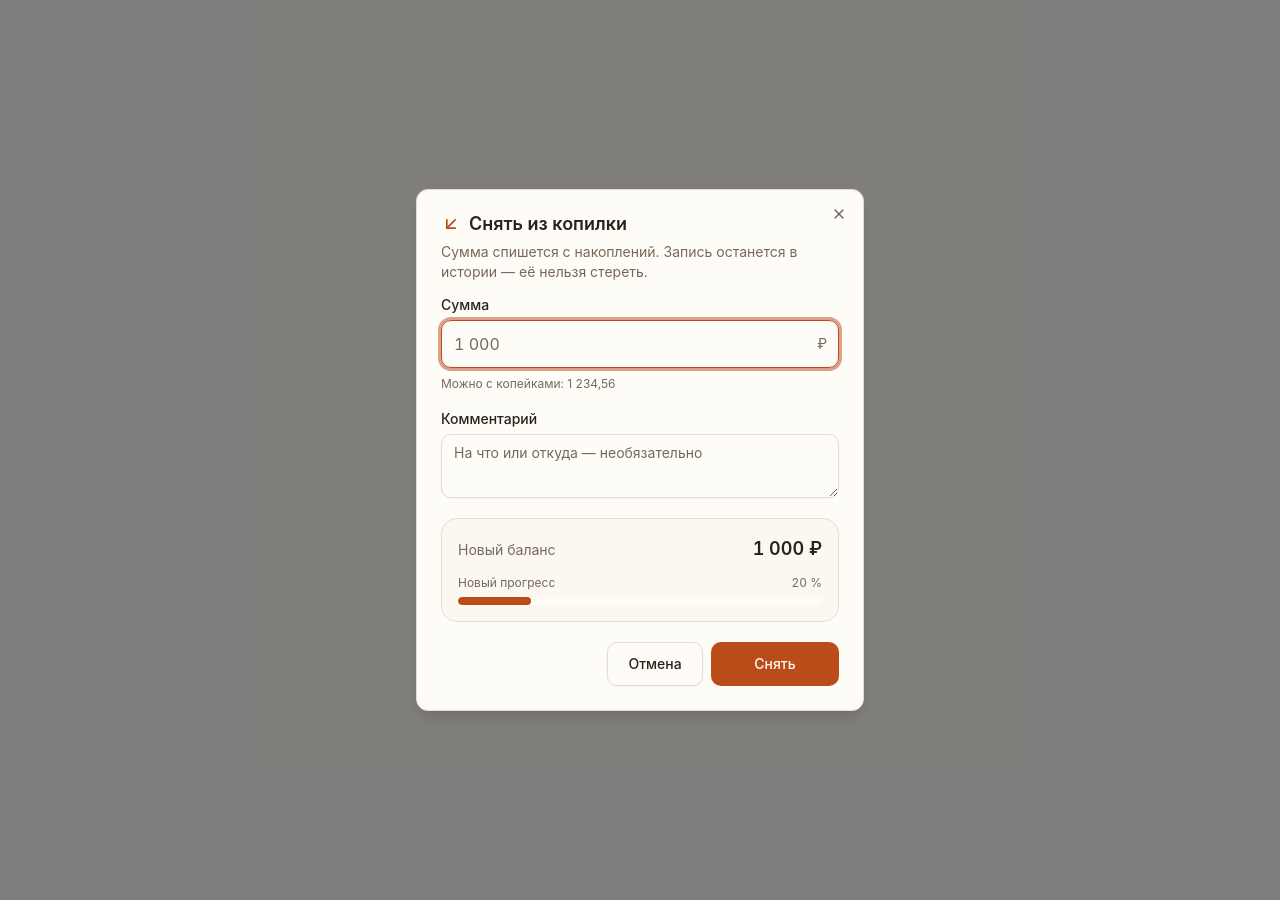
Scenario: contribute dialog preview › subtracts on a withdrawal and warns when the balance would go negative
This screenshot has width=1280, height=900.
In the field labelled "Сумма": {"x": 640, "y": 344} 441,320 -> 839,368, type "250"
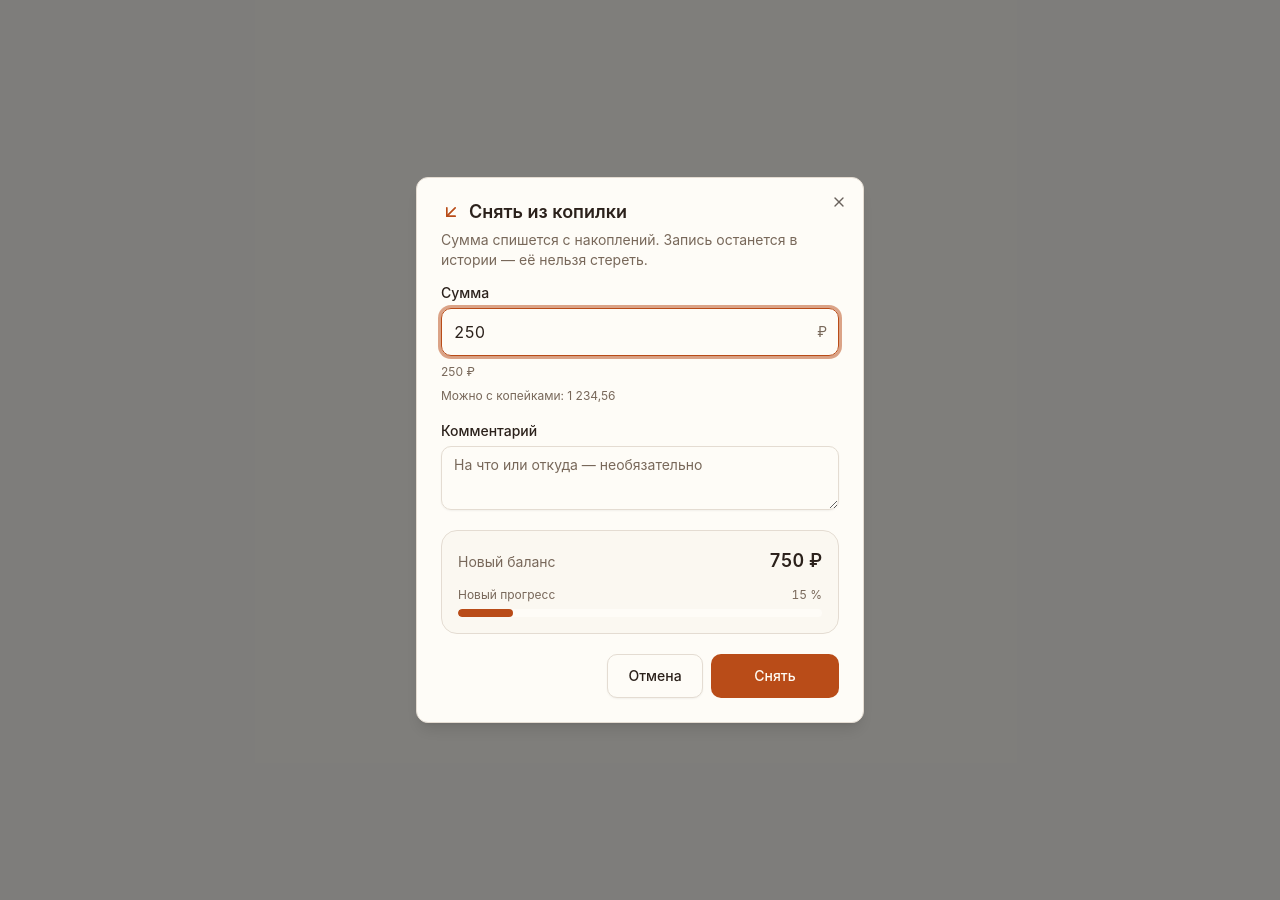
Replace the text in the field labelled "Сумма" with "1 500": {"x": 640, "y": 332} 441,308 -> 839,356
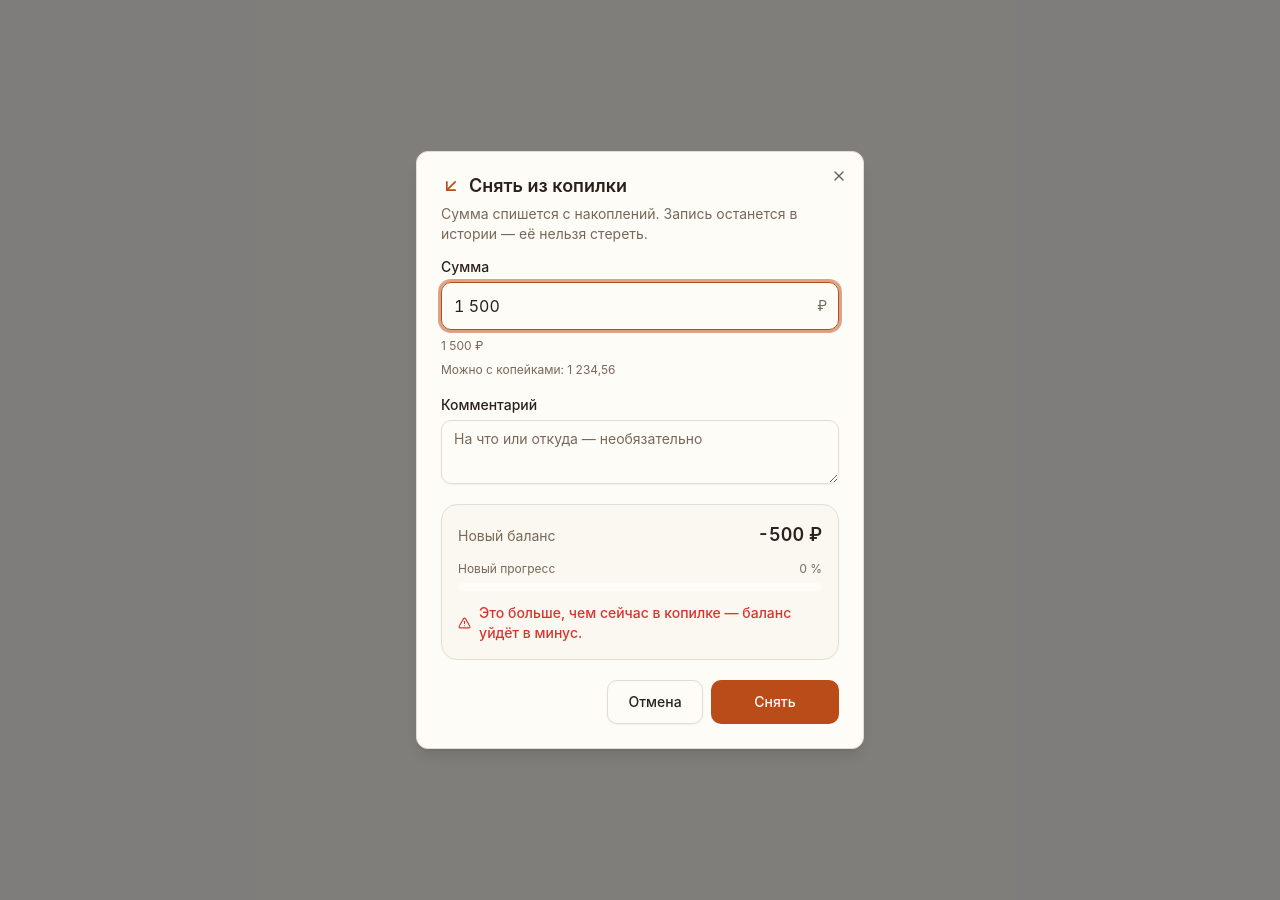
Check: the text "Это больше, чем сейчас в копилке — баланс уйдёт в минус." is shown, box 458,603 -> 822,643
